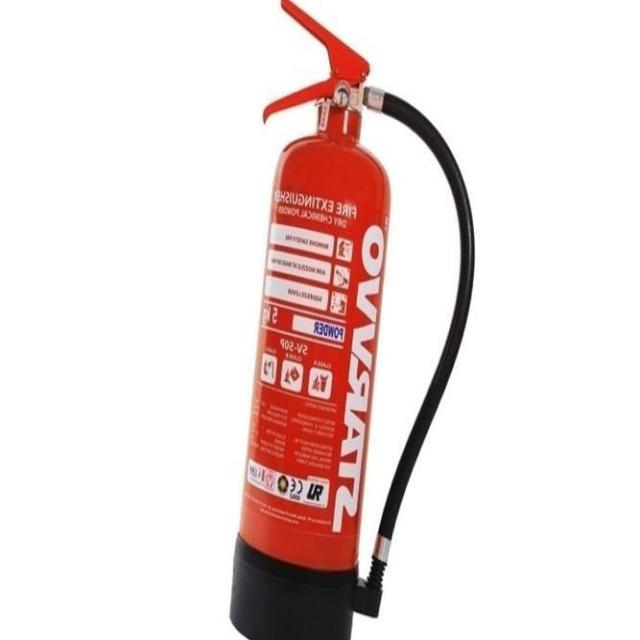fire_extinguisher: (221, 0, 479, 639)
